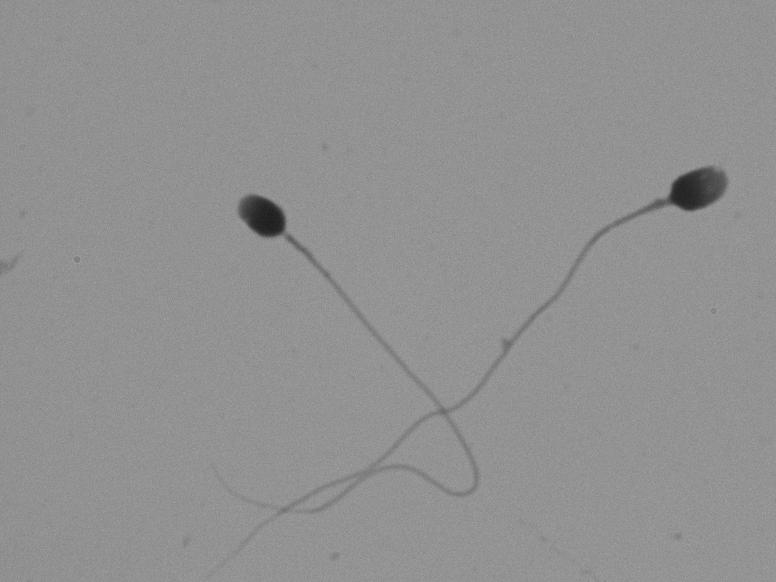Abnormal: (501, 143, 745, 406)
Normal: (169, 179, 491, 535)
